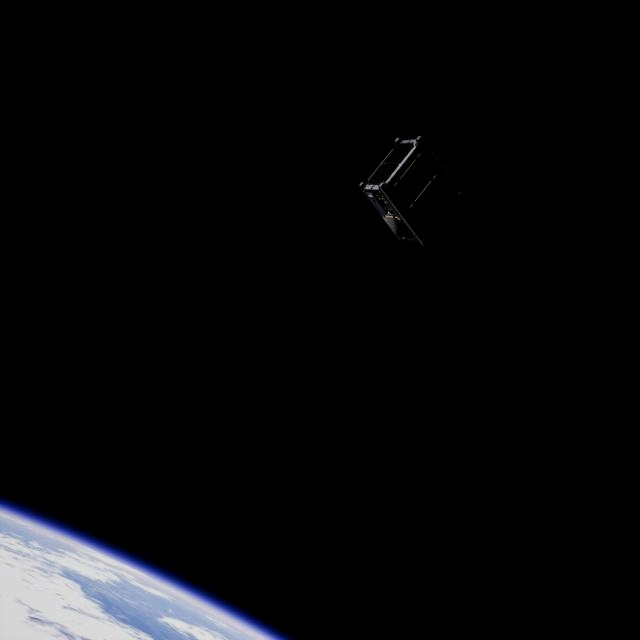medium_debris: (355, 131, 466, 253)
